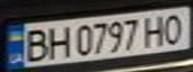0: (72, 21, 93, 56)
7: (121, 16, 145, 51), (90, 19, 109, 54)
9: (106, 17, 127, 53)
B: (18, 26, 51, 62)
H: (139, 12, 172, 47), (42, 24, 72, 60)
O: (160, 10, 190, 45)
